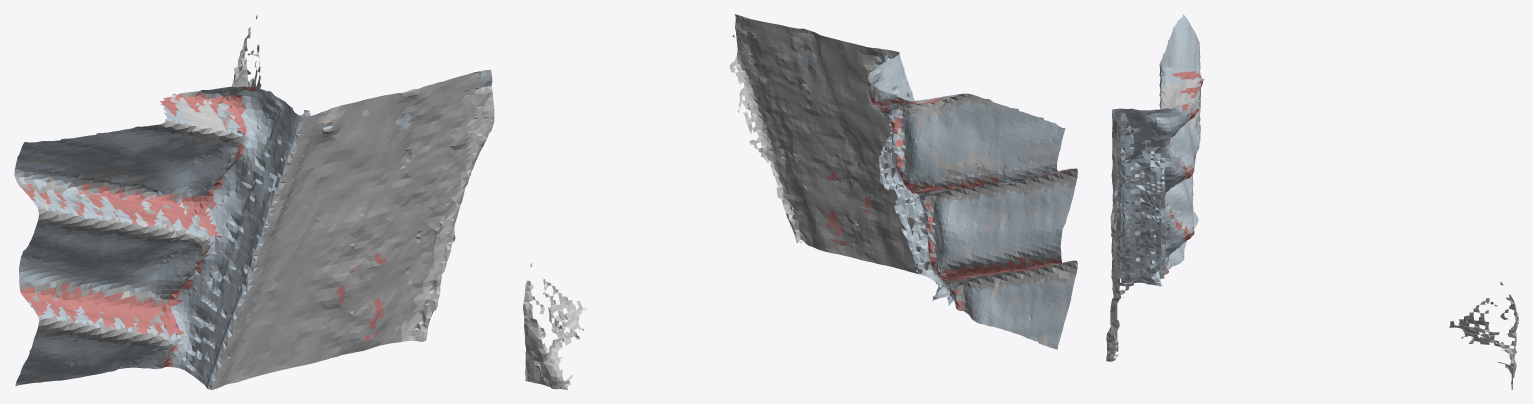
Rendered from B173-날개__nojudge_ALS_s0__after.glb.
3 views of the same model, side by side, from view 1: azimuth 30°, elevation 25°; view 2: azimuth 150°, elevation 25°; view 3: azimuth 270°, elevation 25° (orthographic). The views are drawn at different scales.
Size of the model in its own units: 16.01 by 9 by 16.32.
